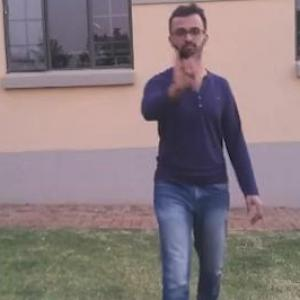takeoff-hand: (163, 44, 198, 94)
